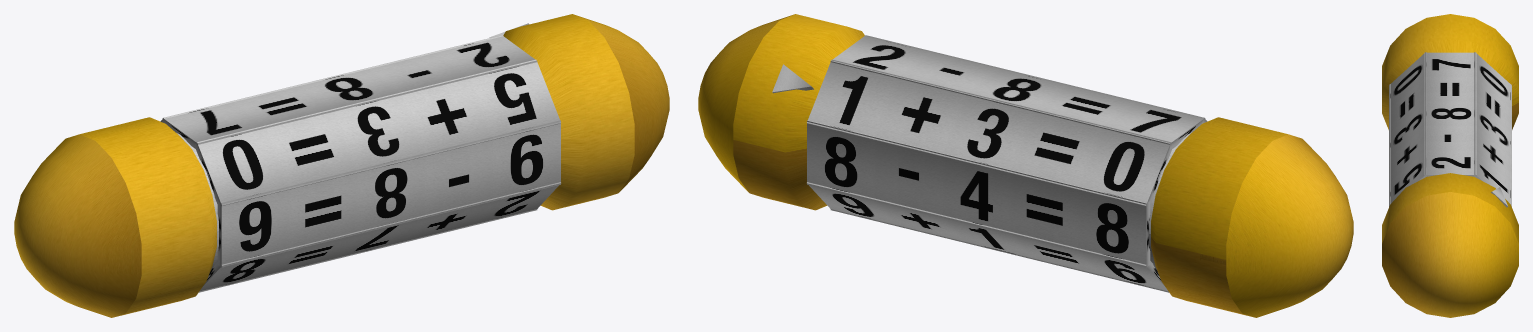
File: lvl1.FBX
3 renders of one model, left to right at view 1: azimuth 30°, elevation 25°; view 2: azimuth 150°, elevation 25°; view 3: azimuth 270°, elevation 25°, orthographic. The views are drawn at different scales.
Visible parts, largest first — view 1: Cylinder002, Box026, Box034, Box042, Box058, Box050, Box025, Box033, Box041, Box049, Box057, Box032 (+9 smaller); view 2: Cylinder002, Box029, Box037, Box045, Box061, Box053, Box030, Box038, Box046, Box054, Box062, Box032 (+10 smaller); view 3: Cylinder002, Box064, Box040, Box032, Box048, Box056, Box034, Box037, Box050, Box053, Box026, Box029 (+5 smaller).
Part boxes in pixels (x1=…): Cylinder002: x1=14, y1=14, x2=669, y2=317; Box026: x1=194, y1=125, x2=289, y2=207; Box034: x1=265, y1=109, x2=357, y2=189; Box042: x1=333, y1=92, x2=425, y2=172; Box058: x1=468, y1=59, x2=560, y2=139; Box050: x1=400, y1=76, x2=493, y2=156; Box025: x1=217, y1=186, x2=289, y2=267; Box033: x1=289, y1=170, x2=357, y2=250; Box041: x1=357, y1=153, x2=424, y2=234; Box049: x1=425, y1=137, x2=492, y2=217; Box057: x1=492, y1=120, x2=560, y2=201; Box032: x1=162, y1=101, x2=265, y2=148; Cylinder002: x1=698, y1=14, x2=1353, y2=317; Box029: x1=1078, y1=125, x2=1172, y2=205; Box037: x1=1010, y1=109, x2=1102, y2=189; Box045: x1=942, y1=92, x2=1034, y2=172; Box061: x1=807, y1=59, x2=899, y2=139; Box053: x1=874, y1=76, x2=967, y2=156; Box030: x1=1078, y1=186, x2=1150, y2=267; Box038: x1=1010, y1=170, x2=1078, y2=250; Box046: x1=943, y1=153, x2=1010, y2=234; Box054: x1=875, y1=137, x2=942, y2=217; Box062: x1=807, y1=120, x2=875, y2=201; Box032: x1=1102, y1=101, x2=1205, y2=150; Cylinder002: x1=1382, y1=14, x2=1518, y2=317; Box064: x1=1424, y1=150, x2=1476, y2=177; Box040: x1=1424, y1=77, x2=1476, y2=101; Box032: x1=1424, y1=52, x2=1476, y2=76; Box048: x1=1424, y1=101, x2=1476, y2=125; Box056: x1=1424, y1=126, x2=1476, y2=150; Box034: x1=1389, y1=76, x2=1426, y2=133; Box037: x1=1474, y1=76, x2=1511, y2=133; Box050: x1=1389, y1=125, x2=1426, y2=182; Box053: x1=1474, y1=125, x2=1511, y2=182; Box026: x1=1389, y1=52, x2=1426, y2=109; Box029: x1=1474, y1=52, x2=1511, y2=109.
Size of the model in its own units: 93.92 by 24 by 23.64.
43 materials, 43 textured.
